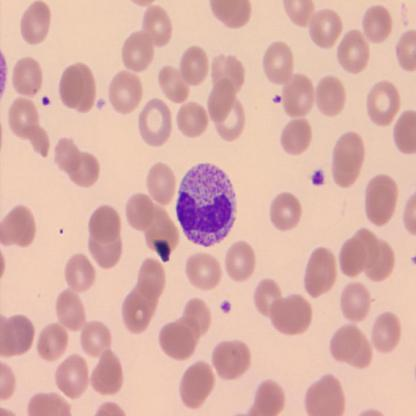Band Neutrophil: (174, 159, 239, 249)
